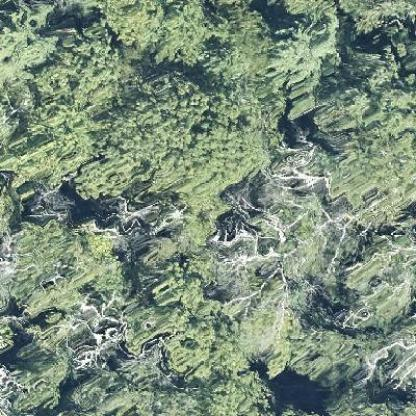tree-top: (4, 223, 127, 315), (332, 223, 413, 326), (270, 15, 338, 122)
